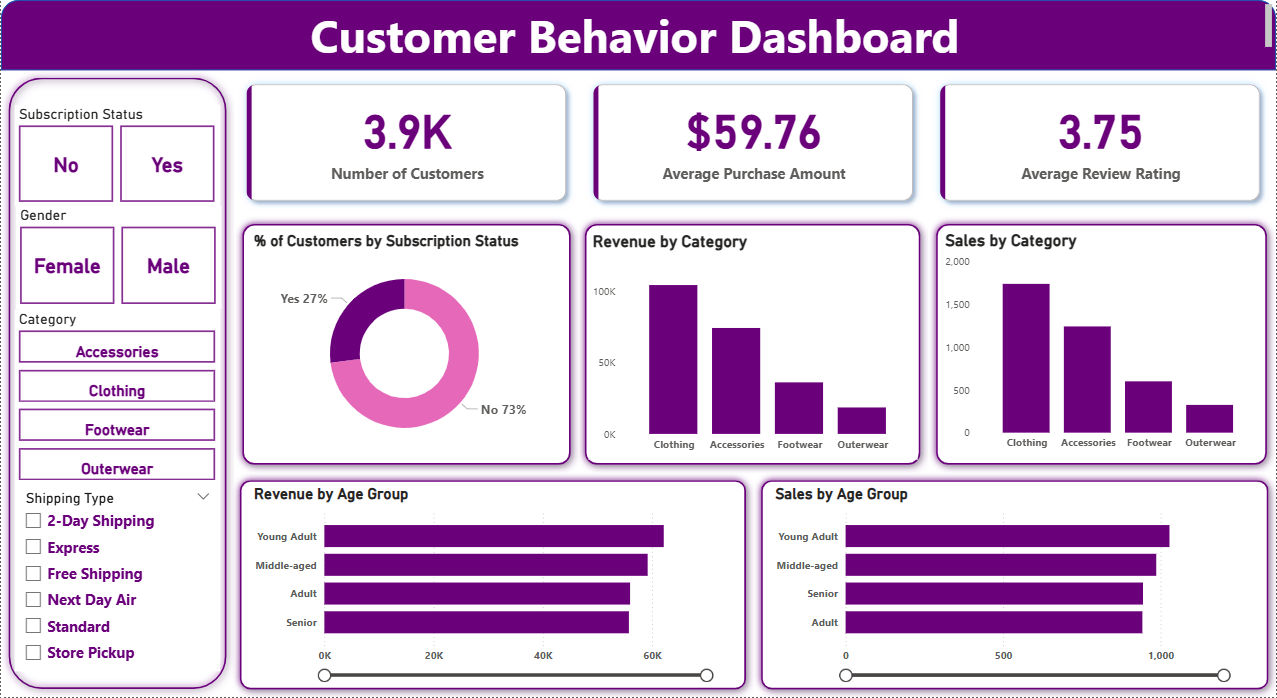

The page's visual inventory and layout, read from the dashboard file:
{"tool":"powerbi","page":{"name":"Page 1","canvas":[1500,820],"ordinal":0},"visuals":[{"type":"cardVisual","fields":{"Data":["public customer.Number of Customers","public customer.Average Purchase Amount","public customer.Average Review Rating"]},"box":[271.4,82.9,1228.6,171.4],"z":0},{"type":"shape","box":[0,0,1500,82.9],"z":1000},{"type":"textbox","box":[0,0,1500,70],"z":2000},{"type":"shape","box":[274.3,254.3,404.3,301.4],"z":3000},{"type":"donutChart","title":"% of Customers by Subscription Status","fields":{"Category":["public customer.subscription_status"],"Y":["Count(public customer.customer_id)"]},"box":[292.9,271.4,364.3,267.1],"z":4000},{"type":"shape","box":[678.6,254.3,412.9,301.4],"z":5000},{"type":"shape","box":[1091.4,254.3,407.1,301.4],"z":6000},{"type":"clusteredColumnChart","title":"Revenue by Category","fields":{"Y":["Sum(public customer.purchase_amount)"],"Category":["public customer.category"]},"box":[691.4,272.9,387.1,267.1],"z":7000},{"type":"clusteredColumnChart","title":"Sales by Category","fields":{"Y":["Count(public customer.customer_id)"],"Category":["public customer.category"]},"box":[1105.7,271.4,380,267.1],"z":8000},{"type":"shape","box":[0,82.9,274.3,737.1],"z":9000},{"type":"advancedSlicerVisual","title":"Subscription Status","fields":{"Values":["public customer.subscription_status"]},"box":[16.4,123.9,241.8,119.4],"z":10000},{"type":"advancedSlicerVisual","title":"Gender","fields":{"Values":["public customer.gender"]},"box":[17.9,243.3,241.8,120.9],"z":11000},{"type":"advancedSlicerVisual","title":"Category","fields":{"Values":["public customer.category"]},"box":[16.4,364.2,241.8,206],"z":12000},{"type":"slicer","title":"Gender","fields":{"Values":["public customer.shipping_type"]},"box":[16.4,570.1,241.8,219.4],"z":13000},{"type":"shape","box":[271.6,555.2,613.4,264.2],"z":13002},{"type":"shape","box":[885.1,555.2,614.9,264.2],"z":13003},{"type":"clusteredBarChart","title":"Revenue by Age Group","fields":{"Y":["Sum(public customer.purchase_amount)"],"Category":["public customer.age_group"]},"box":[292.5,570.1,553.7,234.3],"z":13005},{"type":"clusteredBarChart","title":"Sales by Age Group","fields":{"Y":["Count(public customer.customer_id)"],"Category":["public customer.age_group"]},"box":[906,570.1,553.7,234.3],"z":13006}]}

Visuals, with their boxes in screenshot pixels (x1, y1, x2, y2), scaled from the page's 1500x820 canvas onto the 1277x698 screenshot:
cardVisual - public customer.Number of Customers x public customer.Average Purchase Amount: 231/71/1276/216
shape: 0/0/1276/71
textbox: 0/0/1276/60
shape: 234/216/578/473
"% of Customers by Subscription Status" donutChart: 249/231/559/458
shape: 578/216/929/473
shape: 929/216/1276/473
"Revenue by Category" clusteredColumnChart: 589/232/918/460
"Sales by Category" clusteredColumnChart: 941/231/1265/458
shape: 0/71/234/697
"Subscription Status" advancedSlicerVisual: 14/105/220/207
"Gender" advancedSlicerVisual: 15/207/221/310
"Category" advancedSlicerVisual: 14/310/220/485
"Gender" slicer: 14/485/220/672
shape: 231/473/753/697
shape: 754/473/1276/697
"Revenue by Age Group" clusteredBarChart: 249/485/720/685
"Sales by Age Group" clusteredBarChart: 771/485/1243/685
